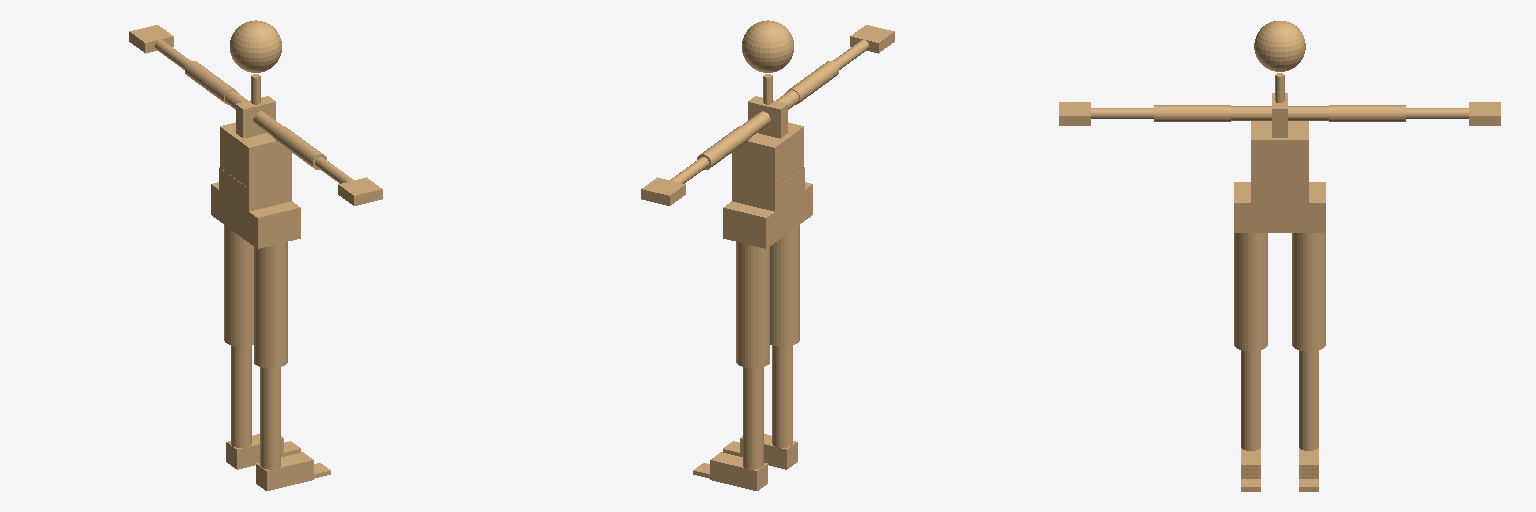
--- What the picture shows (computed from the rendered views, not written in the file) ---
The picture shows the robot from 3 angles, left to right: view 1: azimuth 30°, elevation 25°; view 2: azimuth 150°, elevation 25°; view 3: azimuth 270°, elevation 25°; orthographic projection.
Model XSensStyleModel_template with 49 links and 48 joints (48 revolute), rooted at Pelvis, posed all joints at 0.
Links seen in each view (by area): view 1: RightUpperLeg, LeftUpperLeg, Pelvis, Head, RightLowerLeg, LeftLowerLeg, T12, L5, L3, RightFoot, T8, RightHand (+4 smaller); view 2: LeftUpperLeg, RightUpperLeg, Pelvis, Head, LeftLowerLeg, RightLowerLeg, T12, L5, L3, LeftFoot, T8, LeftHand (+4 smaller); view 3: RightUpperLeg, LeftUpperLeg, Pelvis, Head, T12, RightLowerLeg, LeftLowerLeg, RightUpperArm, LeftUpperArm, L5, L3, RightHand (+8 smaller).
Link boxes in pixels (box(x1,y1,x2,y2)): RightUpperLeg: box(254, 242, 287, 367); LeftUpperLeg: box(224, 225, 253, 346); Pelvis: box(211, 182, 300, 248); Head: box(230, 20, 281, 72); RightLowerLeg: box(260, 367, 280, 469); LeftLowerLeg: box(231, 345, 251, 447); T12: box(220, 122, 291, 167); L5: box(219, 167, 291, 211); L3: box(220, 148, 291, 188); RightFoot: box(256, 452, 313, 490); T8: box(236, 96, 275, 138); RightHand: box(338, 177, 382, 205); LeftUpperLeg: box(736, 242, 769, 367); RightUpperLeg: box(770, 225, 799, 346); Pelvis: box(723, 182, 812, 248); Head: box(742, 20, 793, 72); LeftLowerLeg: box(743, 367, 763, 469); RightLowerLeg: box(772, 345, 792, 447); T12: box(732, 122, 803, 167); L5: box(732, 167, 804, 211); L3: box(732, 148, 803, 188); LeftFoot: box(710, 452, 767, 490); T8: box(748, 96, 787, 138); LeftHand: box(641, 177, 685, 205); RightUpperLeg: box(1234, 233, 1267, 351); LeftUpperLeg: box(1292, 233, 1325, 351); Pelvis: box(1234, 182, 1325, 232); Head: box(1254, 21, 1305, 71); T12: box(1251, 121, 1308, 159); RightLowerLeg: box(1241, 350, 1260, 450); LeftLowerLeg: box(1299, 350, 1318, 450); RightUpperArm: box(1154, 105, 1230, 121); LeftUpperArm: box(1329, 105, 1405, 121); L5: box(1251, 181, 1308, 202); L3: box(1251, 160, 1308, 180); RightHand: box(1059, 102, 1090, 125).
Size in the robot's own frame: 0.3144 by 1.57 by 1.75 metres.
Geometry: primitives only (box / cylinder / sphere), no mesh files.

robot.urdf — XSensStyleModel_template:
<?xml version="1.0" encoding="utf-8"?>

<!--
  Model modified based on: https://github.com/robotology/human-gazebo
  See licence at doc/thirdparty_human_urdf_LICENSE
-->


<!--URDF MODEL 48 DoFs-->

<robot name="XSensStyleModel_template">

<material name="color">
    <color rgba="0.87 0.72 0.53 1"/>
</material>

<!--To open this model with Gazebo replace the null masses, inertias and dimensions of the 'fake links f1 and f2'-->
    <!--LINKS-->
	<!--Link base (1)-->
	<link name="Pelvis">
        <inertial>
            <mass value="6.352"/>
			<!--COM origin wrt pHipOrigin-->
            <origin xyz="0           0    0.062435" rpy="0 0 0" />
            <inertia ixx="0.064101" iyy="0.023834" izz="0.07276" ixy="0" ixz="0" iyz="0"/>
        </inertial>

        <visual>
			<!--box origin wrt pHipOrigin-->
            <origin xyz="0           0    0.062435" rpy="0 0 0" />
            <geometry>
                <box size="0.17519     0.32675     0.11973"/>
            </geometry>
            <material name="color"/>
        </visual>

        <collision>
			<!--box origin wrt pHipOrigin-->
            <origin xyz="0           0    0.062435" rpy="0 0 0" />
            <geometry>
                <box size="0.17519     0.32675     0.11973"/>
            </geometry>
        </collision>

    </link>
    <!--Chain from (2) to (7)-->
	<link name="L5_f1">
        <inertial>
            <mass value="0"/>
            <origin xyz="0 0 0" rpy="0 0 0" />
            <inertia ixx="0" iyy="0" izz="0" ixy="0" ixz="0" iyz="0"/>
        </inertial>
    </link>
	<link name="L5">
        <inertial>
            <mass value="8.0988"/>
			<!--COM origin wrt jL5S1-->
            <origin xyz="0           0    0.043965" rpy="0 0 0" />
            <inertia ixx="0.034135" iyy="0.025932" izz="0.049631" ixy="0" ixz="0" iyz="0"/>
        </inertial>

        <visual>
			<!--box origin origin wrt jL5S1-->
            <origin xyz="0           0    0.043965" rpy="0 0 0" />
            <geometry>
                <box size="0.17519     0.20699     0.08793"/>
            </geometry>
            <material name="color"/>
        </visual>

        <collision>
			<!--box origin origin wrt jL5S1-->
            <origin xyz="0           0    0.043965" rpy="0 0 0" />
            <geometry>
                <box size="0.17519     0.20699     0.08793"/>
            </geometry>
        </collision>
    </link>
	<link name="L3_f1">
        <inertial>
            <mass value="0"/>
            <origin xyz="0 0 0" rpy="0 0 0" />
            <inertia ixx="0" iyy="0" izz="0" ixy="0" ixz="0" iyz="0"/>
        </inertial>
    </link>
	<link name="L3">
        <inertial>
            <mass value="8.0988"/>
			<!--COM origin wrt jL4L3-->
            <origin xyz="0           0    0.039709" rpy="0 0 0" />
            <inertia ixx="0.033174" iyy="0.024971" izz="0.049631" ixy="0" ixz="0" iyz="0"/>
        </inertial>

        <visual>
			<!--box origin origin wrt jL4L3-->
            <origin xyz="0           0    0.039709" rpy="0 0 0" />
            <geometry>
                <box size="0.17519     0.20699    0.079417"/>
            </geometry>
            <material name="color"/>
        </visual>

        <collision>
			<!--box origin origin wrt jL4L3-->
            <origin xyz="0           0    0.039709" rpy="0 0 0" />
            <geometry>
                <box size="0.17519     0.20699    0.079417"/>
            </geometry>
        </collision>
    </link>
	<link name="T12_f1">
        <inertial>
            <mass value="0"/>
            <origin xyz="0 0 0" rpy="0 0 0" />
            <inertia ixx="0" iyy="0" izz="0" ixy="0" ixz="0" iyz="0"/>
        </inertial>
    </link>
	<link name="T12">
        <inertial>
            <mass value="8.0988"/>
			<!--COM origin wrt jL1T12-->
            <origin xyz="0           0    0.039709" rpy="0 0 0" />
            <inertia ixx="0.033174" iyy="0.024971" izz="0.049631" ixy="0" ixz="0" iyz="0"/>
        </inertial>

        <visual>
			<!--box origin origin wrt jL1T12-->
            <origin xyz="0           0    0.039709" rpy="0 0 0" />
            <geometry>
                <box size="0.17519     0.20699    0.079417"/>
            </geometry>
            <material name="color"/>
        </visual>

        <collision>
			<!--box origin origin wrt jL1T12-->
            <origin xyz="0           0    0.039709" rpy="0 0 0" />
            <geometry>
                <box size="0.17519     0.20699    0.079417"/>
            </geometry>
        </collision>
    </link>
	<link name="T8_f1">
        <inertial>
            <mass value="0"/>
            <origin xyz="0 0 0" rpy="0 0 0" />
            <inertia ixx="0" iyy="0" izz="0" ixy="0" ixz="0" iyz="0"/>
        </inertial>
    </link>
	<link name="T8_f2">
        <inertial>
            <mass value="0"/>
            <origin xyz="0 0 0" rpy="0 0 0" />
            <inertia ixx="0" iyy="0" izz="0" ixy="0" ixz="0" iyz="0"/>
        </inertial>
    </link>
	<link name="T8">
        <inertial>
            <mass value="3.176"/>
			<!--COM origin wrt jT9T8-->
            <origin xyz="0           0    0.056134" rpy="0 0 0" />
            <inertia ixx="0.0041415" iyy="0.0080363" izz="0.0055061" ixy="0" ixz="0" iyz="0"/>
        </inertial>

        <visual>
			<!--box origin wrt jT9T8-->
            <origin xyz="0           0    0.056134" rpy="0 0 0" />
            <geometry>
                <box size="0.13327    0.055172     0.11227"/>
            </geometry>
            <material name="color"/>
        </visual>

        <collision>
			<!--box origin wrt jT9T8-->
            <origin xyz="0           0    0.056134" rpy="0 0 0" />
            <geometry>
                <box size="0.13327    0.055172     0.11227"/>
            </geometry>
        </collision>

    </link>
	<link name="Neck_f1">
        <inertial>
            <mass value="0"/>
            <origin xyz="0 0 0" rpy="0 0 0" />
            <inertia ixx="0" iyy="0" izz="0" ixy="0" ixz="0" iyz="0"/>
        </inertial>
    </link>
	<link name="Neck_f2">
        <inertial>
            <mass value="0"/>
            <origin xyz="0 0 0" rpy="0 0 0" />
            <inertia ixx="0" iyy="0" izz="0" ixy="0" ixz="0" iyz="0"/>
        </inertial>
    </link>
	<link name="Neck">
        <inertial>
            <mass value="0.9528"/>
			<!--COM origin wrt jT1C7-->
            <origin xyz="0           0    0.052133" rpy="0 0 0" />
            <inertia ixx="0.0011087" iyy="0.0011087" izz="0.00049098" ixy="0" ixz="0" iyz="0"/>
        </inertial>

        <visual>
			<!--box origin wrt jT1C7-->
            <origin xyz="0           0    0.052133" rpy="0 0 0" />
            <geometry>
		<cylinder length="0.10427" radius="0.016051"/>
            </geometry>
            <material name="color"/>
        </visual>

        <collision>
			<!--box origin wrt jT1C7-->
            <origin xyz="0           0    0.052133" rpy="0 0 0" />
            <geometry>
                <cylinder length="0.10427" radius="0.016051"/>
            </geometry>
        </collision>
    </link>
	<link name="Head_f1">
        <inertial>
            <mass value="0"/>
            <origin xyz="0 0 0" rpy="0 0 0" />
            <inertia ixx="0" iyy="0" izz="0" ixy="0" ixz="0" iyz="0"/>
        </inertial>
    </link>
	<link name="Head">
        <inertial>
            <mass value="0.8584"/>
			<!--COM origin wrt jC1Head-->
            <origin xyz="0           0     0.11223" rpy="0 0 0" />
            <inertia ixx="0.0144" iyy="0.0144" izz="0.0144" ixy="0" ixz="0" iyz="0"/>
        </inertial>

        <visual>
			<!--boc origin wrt jC1Head-->
            <origin xyz="0           0     0.11223" rpy="0 0 0" />
            <geometry>
                <sphere radius="0.09223"/>
            </geometry>
            <material name="color"/>
        </visual>

        <collision>
			<!--box origin wrt jC1Head-->
            <origin xyz="0           0     0.11223" rpy="0 0 0" />
            <geometry>
                <sphere radius="0.09223"/>
            </geometry>
        </collision>

    </link>
	<!--Chain from (8) to (11)-->
	<link name="RightShoulder">
        <inertial>
            <mass value="2.4614"/>
			<!--COM origin wrt jRightC7Shoulder-->
            <origin xyz="0   -0.073328           0" rpy="0 0 0" />
            <inertia ixx="0.0048377" iyy="0.0008521" izz="0.0048377" ixy="0" ixz="0" iyz="0"/>
        </inertial>

        <visual>
			<!--box origin wrt jRightC7Shoulder. RPY rotated of pi/2.-->
            <origin xyz="0   -0.073328           0" rpy="1.5708 0 0" />
            <geometry>
                <cylinder length="0.14666" radius="0.026313"/>
            </geometry>
            <material name="color"/>
        </visual>

        <collision>
			<!--box origin wrt jRightC7Shoulder. RPY rotated of pi/2.-->
            <origin xyz="0   -0.073328           0" rpy="1.5708 0 0" />
            <geometry>
                <cylinder length="0.14666" radius="0.026313"/>
            </geometry>
        </collision>

    </link>
	<link name="RightUpperArm_f1">
        <inertial>
            <mass value="0"/>
            <origin xyz="0 0 0" rpy="0 0 0" />
            <inertia ixx="0" iyy="0" izz="0" ixy="0" ixz="0" iyz="0"/>
        </inertial>
    </link>
	<link name="RightUpperArm_f2">
        <inertial>
            <mass value="0"/>
            <origin xyz="0 0 0" rpy="0 0 0" />
            <inertia ixx="0" iyy="0" izz="0" ixy="0" ixz="0" iyz="0"/>
        </inertial>
    </link>
    <link name="RightUpperArm">
        <inertial>
            <mass value="2.382"/>
			<!--COM origin wrt jRightShoulder-->
            <origin xyz="0     -0.1369           0" rpy="0 0 0" />
            <inertia ixx="0.015417" iyy="0.0010729" izz="0.015417" ixy="0" ixz="0" iyz="0"/>
        </inertial>

        <visual>
			<!--box origin wrt jRightShoulder. RPY rotated of pi/2.-->
            <origin xyz="0     -0.1369           0" rpy="1.5708 0 0" />
            <geometry>
                <cylinder length="0.27379" radius="0.0300014"/>
            </geometry>
            <material name="color"/>
        </visual>

        <collision>
			<!--box origin wrt jRightShoulder. RPY rotated of pi/2.-->
            <origin xyz="0     -0.1369           0" rpy="1.5708 0 0" />
            <geometry>
                <cylinder length="0.27379" radius="0.02014"/>
            </geometry>
        </collision>

    </link>
	<link name="RightForeArm_f1">
    <contact>
      <lateral_friction value="0.0"/>
      <rolling_friction value="0.0"/>
   </contact>

        <inertial>
            <mass value="0"/>
            <origin xyz="0 0 0" rpy="0 0 0" />
            <inertia ixx="0" iyy="0" izz="0" ixy="0" ixz="0" iyz="0"/>
        </inertial>
        <collision>
      <!--box origin wrt jRightElbow. RPY rotated of pi/2.-->
            <geometry>
                <sphere radius="0.023"/>
            </geometry>
        </collision>
    </link>
	<link name="RightForeArm">
        <inertial>
            <mass value="1.588"/>
			<!--COM origin wrt jRightElbow-->
            <origin xyz="0    -0.11359           0" rpy="0 0 0" />
            <inertia ixx="0.0069888" iyy="0.0003179" izz="0.0069888" ixy="0" ixz="0" iyz="0"/>
        </inertial>

        <visual>
			<!--box origin wrt jRightElbow. RPY rotated of pi/2.-->
            <origin xyz="0    -0.11359           0" rpy="1.5708 0 0" />
            <geometry>
                <cylinder length="0.22718" radius="0.020009"/>
            </geometry>
            <material name="color"/>
        </visual>

        <collision>
			<!--box origin wrt jRightElbow. RPY rotated of pi/2.-->
            <origin xyz="0    -0.11359           0" rpy="1.5708 0 0" />
            <geometry>
                <cylinder length="0.22718" radius="0.020009"/>
            </geometry>
        </collision>

    </link>
	<link name="RightHand_f1">
        <inertial>
            <mass value="0"/>
            <origin xyz="0 0 0" rpy="0 0 0" />
            <inertia ixx="0" iyy="0" izz="0" ixy="0" ixz="0" iyz="0"/>
        </inertial>
    </link>
	<link name="RightHand">
        <inertial>
            <mass value="0.4764"/>
			<!--COM origin wrt jRightWrist-->
            <origin xyz="0   -0.086009           0" rpy="0 0 0" />
            <inertia ixx="0.0012383" iyy="0.00058568" izz="0.0016968" ixy="0" ixz="0" iyz="0"/>
        </inertial>

        <visual>
			<!--box origin wrt jRightWrist-->
            <origin xyz="0   -0.086009           0" rpy="0 0 0" />
            <geometry>
                <box size="0.11468     0.11202    0.040019"/>
            </geometry>
            <material name="color"/>
        </visual>

        <collision>
			<!--box origin wrt jRightWrist-->
            <origin xyz="0   -0.086009           0" rpy="0 0 0" />
            <geometry>
                <box size="0.11468     0.11202    0.040019"/>
            </geometry>
        </collision>

    </link>

	<!--Chain from (12) to (15)-->
	<link name="LeftShoulder">
        <inertial>
            <mass value="2.4614"/>
			<!--COM origin wrt jLeftC7Shoulder-->
            <origin xyz="0    0.073328           0" rpy="0 0 0" />
            <inertia ixx="0.0048377" iyy="0.0008521" izz="0.0048377" ixy="0" ixz="0" iyz="0"/>
        </inertial>

        <visual>
			<!--box origin wrt jLeftC7Shoulder. RPY rotated of pi/2.-->
            <origin xyz="0    0.073328           0" rpy="1.5708 0 0" />
            <geometry>
                <cylinder length="0.14666" radius="0.026313"/>
            </geometry>
            <material name="color"/>
        </visual>

        <collision>
			<!--box origin wrt jLeftC7Shoulder. RPY rotated of pi/2.-->
            <origin xyz="0    0.073328           0" rpy="1.5708 0 0" />
            <geometry>
                <cylinder length="0.14666" radius="0.026313"/>
            </geometry>
        </collision>

    </link>
	<link name="LeftUpperArm_f1">
        <inertial>
            <mass value="0"/>
            <origin xyz="0 0 0" rpy="0 0 0" />
            <inertia ixx="0" iyy="0" izz="0" ixy="0" ixz="0" iyz="0"/>
        </inertial>
    </link>
	<link name="LeftUpperArm_f2">
        <inertial>
            <mass value="0"/>
            <origin xyz="0 0 0" rpy="0 0 0" />
            <inertia ixx="0" iyy="0" izz="0" ixy="0" ixz="0" iyz="0"/>
        </inertial>
    </link>
	<link name="LeftUpperArm">
        <inertial>
            <mass value="2.382"/>
			<!--COM origin wrt jLeftShoulder-->
            <origin xyz="0      0.1369           0" rpy="0 0 0" />
            <inertia ixx="0.015417" iyy="0.0010729" izz="0.015417" ixy="0" ixz="0" iyz="0"/>
        </inertial>

        <visual>
			<!--box origin wrt jLeftShoulder. RPY rotated of pi/2.-->
            <origin xyz="0      0.1369           0" rpy="1.5708 0 0" />
            <geometry>
                <cylinder length="0.27379" radius="0.030014"/>
            </geometry>
            <material name="color"/>
        </visual>

        <collision>
			<!--box origin wrt jLeftShoulder. RPY rotated of pi/2.-->
            <origin xyz="0      0.1369           0" rpy="1.5708 0 0" />
            <geometry>
                <cylinder length="0.27379" radius="0.030014"/>
            </geometry>
        </collision>

    </link>
	<link name="LeftForeArm_f1">
        <inertial>
            <mass value="0"/>
            <origin xyz="0 0 0" rpy="0 0 0" />
            <inertia ixx="0" iyy="0" izz="0" ixy="0" ixz="0" iyz="0"/>
        </inertial>
    </link>
	<link name="LeftForeArm">
        <inertial>
            <mass value="1.588"/>
			<!--COM origin wrt jLeftElbow-->
            <origin xyz="0     0.11359           0" rpy="0 0 0" />
            <inertia ixx="0.0069888" iyy="0.0003179" izz="0.0069888" ixy="0" ixz="0" iyz="0"/>
        </inertial>

        <visual>
			<!--box origin wrt jLeftElbow. RPY rotated of pi/2.-->
            <origin xyz="0     0.11359           0" rpy="1.5708 0 0" />
            <geometry>
                <cylinder length="0.22718" radius="0.020009"/>
            </geometry>
            <material name="color"/>
        </visual>

        <collision>
			<!--box origin wrt jLeftElbow. RPY rotated of pi/2.-->
            <origin xyz="0     0.11359           0" rpy="1.5708 0 0" />
            <geometry>
                <cylinder length="0.22718" radius="0.020009"/>
            </geometry>
        </collision>

    </link>
	<link name="LeftHand_f1">
        <inertial>
            <mass value="0"/>
            <origin xyz="0 0 0" rpy="0 0 0" />
            <inertia ixx="0" iyy="0" izz="0" ixy="0" ixz="0" iyz="0"/>
        </inertial>
    </link>
	<link name="LeftHand">
        <inertial>
            <mass value="0.4764"/>
			<!--COM origin wrt jLeftWrist-->
            <origin xyz="0    0.086009           0" rpy="0 0 0" />
            <inertia ixx="0.0012383" iyy="0.00058568" izz="0.0016968" ixy="0" ixz="0" iyz="0"/>
        </inertial>

        <visual>
			<!--COM origin wrt jLeftWrist-->
            <origin xyz="0    0.086009           0" rpy="0 0 0" />
            <geometry>
                <box size="0.11468     0.11202    0.040019"/>
            </geometry>
            <material name="color"/>
        </visual>

        <collision>
			<!--COM origin wrt jLeftWrist-->
            <origin xyz="0    0.086009           0" rpy="0 0 0" />
            <geometry>
                <box size="0.11468     0.11202    0.040019"/>
            </geometry>
        </collision>

    </link>
	<!--Chain from (16) to (19)-->
	<link name="RightUpperLeg_f1">
        <inertial>
            <mass value="0"/>
            <origin xyz="0 0 0" rpy="0 0 0" />
            <inertia ixx="0" iyy="0" izz="0" ixy="0" ixz="0" iyz="0"/>
        </inertial>
    </link>
	<link name="RightUpperLeg_f2">
        <inertial>
            <mass value="0"/>
            <origin xyz="0 0 0" rpy="0 0 0" />
            <inertia ixx="0" iyy="0" izz="0" ixy="0" ixz="0" iyz="0"/>
        </inertial>
    </link>
    <link name="RightUpperLeg">
        <inertial>
            <mass value="9.925"/>
			<!--COM origin wrt jRightHip-->
            <origin xyz="0           0    -0.23901" rpy="0 0 0" />
            <inertia ixx="0.19802" iyy="0.19802" izz="0.018047" ixy="0" ixz="0" iyz="0"/>
        </inertial>

        <visual>
			<!--box origin wrt jRightHip-->
            <origin xyz="0           0    -0.23901" rpy="0 0 0" />
            <geometry>
                <cylinder length="0.47802" radius="0.060305"/>
            </geometry>
            <material name="color"/>
        </visual>

        <collision>
			<!--box origin wrt jRightHip-->
            <origin xyz="0           0    -0.23901" rpy="0 0 0" />
            <geometry>
                <cylinder length="0.47802" radius="0.060305"/>
            </geometry>
        </collision>

    </link>
	<link name="RightLowerLeg_f1">
        <inertial>
            <mass value="0"/>
            <origin xyz="0 0 0" rpy="0 0 0" />
            <inertia ixx="0" iyy="0" izz="0" ixy="0" ixz="0" iyz="0"/>
        </inertial>
    </link>
    <link name="RightLowerLeg">
        <inertial>
            <mass value="2.8981"/>
			<!--COM origin wrt jRightKnee-->
            <origin xyz="0           0    -0.20089" rpy="0 0 0" />
            <inertia ixx="0.039987" iyy="0.039987" izz="0.0019991" ixy="0" ixz="0" iyz="0"/>
        </inertial>

        <visual>
			<!--box origin wrt jRightKnee-->
            <origin xyz="0           0    -0.20089" rpy="0 0 0" />
            <geometry>
                <cylinder length="0.40179" radius="0.037143"/>
            </geometry>
            <material name="color"/>
        </visual>

        <collision>
			<!--box origin wrt jRightKnee-->
            <origin xyz="0           0    -0.20089" rpy="0 0 0" />
            <geometry>
                <cylinder length="0.40179" radius="0.037143"/>
            </geometry>
        </collision>

    </link>
	<link name="RightFoot_f1">
        <inertial>
            <mass value="0"/>
            <origin xyz="0 0 0" rpy="0 0 0" />
            <inertia ixx="0" iyy="0" izz="0" ixy="0" ixz="0" iyz="0"/>
        </inertial>
    </link>
	<link name="RightFoot_f2">
        <inertial>
            <mass value="0"/>
            <origin xyz="0 0 0" rpy="0 0 0" />
            <inertia ixx="0" iyy="0" izz="0" ixy="0" ixz="0" iyz="0"/>
        </inertial>
    </link>
    <link name="RightFoot">
        <inertial>
            <mass value="1.0322"/>
			<!--COM origin wrt jRightAnkle-->
            <origin xyz="0.057127           0   -0.039048" rpy="0 0 0" />
            <inertia ixx="0.0009993" iyy="0.0036296" izz="0.0035796" ixy="0" ixz="0" iyz="0"/>
        </inertial>

        <visual>
			<!--box origin wrt jRightAnkle-->
	    	<origin xyz="0.057127           0   -0.039048" rpy="0 0 0" />
            <geometry>
                <box size="0.18999    0.074286    0.078097"/>
            </geometry>
            <material name="color"/>
        </visual>

        <collision>
			<!--box origin wrt jRightAnkle-->
		    <origin xyz="0.057127           0   -0.039048" rpy="0 0 0" />
	            <geometry>
	                <box size="0.18999    0.074286    0.078097"/>
	            </geometry>
        </collision>

    </link>
    <link name="RightToe">
        <inertial>
            <mass value="0.1191"/>
			<!--COM origin wrt jRightBallFoot-->
            <origin xyz="0.035003           0           0" rpy="0 0 0" />
            <inertia ixx="5.7319e-05" iyy="5.119e-05" izz="0.00010341" ixy="0" ixz="0" iyz="0"/>
        </inertial>

        <visual>
			<!--box origin wrt jRightBallFoot-->
            <origin xyz="0.035003           0           0" rpy="0 0 0" />
            <geometry>
                <box size="0.070006    0.074286    0.016026"/>
            </geometry>
            <material name="color"/>
        </visual>

        <collision>
			<!--box origin wrt jRightBallFoot-->
            <origin xyz="0.035003           0           0" rpy="0 0 0" />
            <geometry>
                <box size="0.070006    0.074286    0.016026"/>
            </geometry>
        </collision>
    </link>
	<!--Chain from (20) to (23)-->
	<link name="LeftUpperLeg_f1">
        <inertial>
            <mass value="0"/>
            <origin xyz="0 0 0" rpy="0 0 0" />
            <inertia ixx="0" iyy="0" izz="0" ixy="0" ixz="0" iyz="0"/>
        </inertial>
    </link>
	<link name="LeftUpperLeg_f2">
        <inertial>
            <mass value="0"/>
            <origin xyz="0 0 0" rpy="0 0 0" />
            <inertia ixx="0" iyy="0" izz="0" ixy="0" ixz="0" iyz="0"/>
        </inertial>
    </link>
    <link name="LeftUpperLeg">
        <inertial>
            <mass value="9.925"/>
			<!--COM origin wrt jLeftHip-->
            <origin xyz="0           0    -0.23901" rpy="0 0 0" />
            <inertia ixx="0.19802" iyy="0.19802" izz="0.018047" ixy="0" ixz="0" iyz="0"/>
        </inertial>

        <visual>
			<!--box origin wrt jLeftHip-->
            <origin xyz="0           0    -0.23901" rpy="0 0 0" />
            <geometry>
                <cylinder length="0.47802" radius="0.060305"/>
            </geometry>
            <material name="color"/>
        </visual>

        <collision>
			<!--box origin wrt jLeftHip-->
            <origin xyz="0           0    -0.23901" rpy="0 0 0" />
            <geometry>
                <cylinder length="0.47802" radius="0.060305"/>
            </geometry>
        </collision>

    </link>
	<link name="LeftLowerLeg_f1">
        <inertial>
            <mass value="0"/>
            <origin xyz="0 0 0" rpy="0 0 0" />
            <inertia ixx="0" iyy="0" izz="0" ixy="0" ixz="0" iyz="0"/>
        </inertial>
    </link>
	<link name="LeftLowerLeg">
        <inertial>
            <mass value="2.8981"/>
			<!--COM origin wrt jLeftKnee-->
            <origin xyz="0           0    -0.20089" rpy="0 0 0" />
            <inertia ixx="0.039987" iyy="0.039987" izz="0.0019991" ixy="0" ixz="0" iyz="0"/>
        </inertial>

        <visual>
			<!--box origin wrt jLeftKnee-->
            <origin xyz="0           0    -0.20089" rpy="0 0 0" />
            <geometry>
		<cylinder length="0.40179" radius="0.037143"/>
            </geometry>
            <material name="color"/>
        </visual>

        <collision>
			<!--box origin wrt jLeftKnee-->
            <origin xyz="0           0    -0.20089" rpy="0 0 0" />
            <geometry>
		<cylinder length="0.40179" radius="0.037143"/>
            </geometry>
        </collision>

    </link>
	<link name="LeftFoot_f1">
        <inertial>
            <mass value="0"/>
            <origin xyz="0 0 0" rpy="0 0 0" />
            <inertia ixx="0" iyy="0" izz="0" ixy="0" ixz="0" iyz="0"/>
        </inertial>
    </link>
	<link name="LeftFoot_f2">
        <inertial>
            <mass value="0"/>
            <origin xyz="0 0 0" rpy="0 0 0" />
            <inertia ixx="0" iyy="0" izz="0" ixy="0" ixz="0" iyz="0"/>
        </inertial>
    </link>
    <link name="LeftFoot">
        <inertial>
            <mass value="1.0322"/>
			<!--COM origin wrt jLeftAnkle-->
            <origin xyz="0.057127           0   -0.039048" rpy="0 0 0" />
            <inertia ixx="0.0009993" iyy="0.0036296" izz="0.0035796" ixy="0" ixz="0" iyz="0"/>
        </inertial>

        <visual>
			<!--box origin wrt jLeftAnkle-->
	   	 	<origin xyz="0.057127           0   -0.039048" rpy="0 0 0" />
            <geometry>
                <box size="0.18999    0.074286    0.078097"/>
            </geometry>
            <material name="color"/>
        </visual>

        <collision>
			<!--box origin wrt jLeftAnkle-->
		    <origin xyz="0.057127           0   -0.039048" rpy="0 0 0" />
	            <geometry>
	                <box size="0.18999    0.074286    0.078097"/>
	            </geometry>
        </collision>

    </link>
	<link name="LeftToe">
        <inertial>
            <mass value="0.1191"/>
			<!--COM origin wrt jLeftBallFoot-->
            <origin xyz="0.035003           0           0" rpy="0 0 0" />
            <inertia ixx="5.7319e-05" iyy="5.119e-05" izz="0.00010341" ixy="0" ixz="0" iyz="0"/>
        </inertial>

        <visual>
			<!--box origin wrt jLeftBallFoot-->
            <origin xyz="0.035003           0           0" rpy="0 0 0" />
            <geometry>
                <box size="0.070006    0.074286    0.016026"/>
            </geometry>
            <material name="color"/>
        </visual>

        <collision>
			<!--box origin wrt jLeftBallFoot-->
            <origin xyz="0.035003           0           0" rpy="0 0 0" />
            <geometry>
                <box size="0.070006    0.074286    0.016026"/>
            </geometry>
        </collision>
    </link>


	<!--JOINTS-->
	<!--Chain from (2) to (7)-->
	<joint name="jL5S1_rotx" type="revolute">
        <origin xyz="-0.000525           0      0.1223" rpy="0 0 0"/>
        <parent link="Pelvis"/>
        <child link="L5_f1"/>
        <dynamics damping="0.5" friction="1.0"/>
        <limit effort="500" velocity="1.0" lower="-0.610865" upper="0.610865" />
        <axis xyz="1 0 0" />
    </joint>
	<joint name="jL5S1_roty" type="revolute">
        <origin xyz="0 0 0" rpy="0 0 0"/>
        <parent link="L5_f1"/>
        <child link="L5"/>
        <dynamics damping="0.1" friction="0.0"/>
        <limit effort="500" velocity="1.0" lower="-0.523599" upper="1.309" />
        <axis xyz="0 1 0" />
    </joint>
	<joint name="jL4L3_rotx" type="revolute">
        <origin xyz="0.000953           0     0.08793" rpy="0 0 0"/>
        <parent link="L5"/>
        <child link="L3_f1"/>
        <dynamics damping="0.5" friction="1.0"/>
        <limit effort="500" velocity="1.0" lower="-0.610865" upper="0.610865" />
        <axis xyz="1 0 0" />
    </joint>
	<joint name="jL4L3_roty" type="revolute">
        <origin xyz="0 0 0" rpy="0 0 0"/>
        <parent link="L3_f1"/>
        <child link="L3"/>
        <dynamics damping="0.5" friction="1.0"/>
        <limit effort="500" velocity="1.0" lower="-0.523599" upper="1.309" />
        <axis xyz="0 1 0" />
    </joint>
	<joint name="jL1T12_rotx" type="revolute">
        <origin xyz="0           0    0.079417" rpy="0 0 0"/>
        <parent link="L3"/>
        <child link="T12_f1"/>
        <dynamics damping="0.5" friction="1.0"/>
        <limit effort="500" velocity="1.0" lower="-0.610865" upper="0.610865" />
        <axis xyz="1 0 0" />
    </joint>
	<joint name="jL1T12_roty" type="revolute">
        <origin xyz="0 0 0" rpy="0 0 0"/>
        <parent link="T12_f1"/>
        <child link="T12"/>
        <dynamics damping="0.5" friction="1.0"/>
        <limit effort="500" velocity="1.0" lower="-0.523599" upper="1.309" />
        <axis xyz="0 1 0" />
    </joint>
	<joint name="jT9T8_rotx" type="revolute">
        <origin xyz="0           0    0.079417" rpy="0 0 0"/>
        <parent link="T12"/>
        <child link="T8_f1"/>
        <dynamics damping="0.1" friction="0.0"/>
        <limit effort="500" velocity="1.0" lower="-0.349066" upper="0.349066" />
        <axis xyz="1 0 0" />
    </joint>
	<joint name="jT9T8_roty" type="revolute">
        <origin xyz="0 0 0" rpy="0 0 0"/>
        <parent link="T8_f1"/>
        <child link="T8_f2"/>
        <dynamics damping="0.5" friction="1.0"/>
        <limit effort="500" velocity="1.0" lower="-0.261799" upper="0.698132" />
        <axis xyz="0 1 0" />
    </joint>
    <joint name="jT9T8_rotz" type="revolute">
        <origin xyz="0 0 0" rpy="0 0 0"/>
        <parent link="T8_f2"/>
        <child link="T8"/>
        <dynamics damping="0.1" friction="0.0"/>
        <limit effort="500" velocity="1.0" lower="-0.610865" upper="0.610865" />
        <axis xyz="0 0 1" />
    </joint>
	<joint name="jT1C7_rotx" type="revolute">
        <origin xyz="0           0     0.11227" rpy="0 0 0"/>
        <parent link="T8"/>
        <child link="Neck_f1"/>
        <dynamics damping="0.5" friction="1.0"/>
        <limit effort="30" velocity="1.0" lower="-0.610865" upper="0.610865" />
        <axis xyz="1 0 0" />
    </joint>
	<joint name="jT1C7_roty" type="revolute">
        <origin xyz="0 0 0" rpy="0 0 0"/>
        <parent link="Neck_f1"/>
        <child link="Neck_f2"/>
        <dynamics damping="0.1" friction="0.0"/>
        <limit effort="500" velocity="1.0" lower="-0.959931" upper="1.5708" />
        <axis xyz="0 1 0" />
    </joint>
    <joint name="jT1C7_rotz" type="revolute">
        <origin xyz="0 0 0" rpy="0 0 0"/>
        <parent link="Neck_f2"/>
        <child link="Neck"/>
        <dynamics damping="0.5" friction="1.0"/>
        <limit effort="500" velocity="1.0" lower="-1.22173" upper="1.22173" />
        <axis xyz="0 0 1" />
    </joint>
	<joint name="jC1Head_rotx" type="revolute">
        <origin xyz="-0.000154           0     0.10427" rpy="0 0 0"/>
        <parent link="Neck"/>
        <child link="Head_f1"/>
        <dynamics damping="0.5" friction="1.0"/>
        <limit effort="500" velocity="1.0" lower="-0.610865" upper="0.610865" />
        <axis xyz="1 0 0" />
    </joint>
	<joint name="jC1Head_roty" type="revolute">
        <origin xyz="0 0 0" rpy="0 0 0"/>
        <parent link="Head_f1"/>
        <child link="Head"/>
        <dynamics damping="0.5" friction="1.0"/>
        <limit effort="500" velocity="1.0" lower="-0.436332" upper="0.174533" />
        <axis xyz="0 1 0" />
    </joint>
	<!--Chain from (8) to (11)-->
	<joint name="jRightC7Shoulder_rotx" type="revolute">
        <origin xyz="0   -0.027586    0.063241" rpy="0 0 0"/>
        <parent link="T8"/>
        <child link="RightShoulder"/>
        <dynamics damping="10.1" friction="10.0"/>
        <limit effort="30" velocity="1.0" lower="-0.785398" upper="0.0872665" />
        <axis xyz="1 0 0" />
    </joint>
	<joint name="jRightShoulder_rotx" type="revolute">
        <origin xyz="0    -0.14666           0" rpy="0 0 0"/>
        <parent link="RightShoulder"/>
        <child link="RightUpperArm_f1"/>
        <dynamics damping="10.1" friction="10.0"/>
        <limit effort="30" velocity="0.2" lower="-2.35619" upper="1.5708" />
        <axis xyz="1 0 0" />
    </joint>
	<joint name="jRightShoulder_roty" type="revolute">
        <origin xyz="0 0 0" rpy="0 0 0"/>
        <parent link="RightUpperArm_f1"/>
        <child link="RightUpperArm_f2"/>
        <dynamics damping="10.1" friction="10.0"/>
        <limit effort="30" velocity="0.2" lower="-1.5708" upper="1.5708" />
        <axis xyz="0 1 0" />

        <!-- <limit effort="30" velocity="0.2" lower="-0.785398" upper="3.14159" />
        <axis xyz="0 0 1" /> -->

    </joint>
    <joint name="jRightShoulder_rotz" type="revolute">
        <origin xyz="0 0 0" rpy="0 0 0"/>
        <parent link="RightUpperArm_f2"/>
        <child link="RightUpperArm"/>
        <dynamics damping="10.1" friction="10.0"/>
        <limit effort="30" velocity="1.0" lower="-0.785398" upper="3.14159" />
        <axis xyz="0 0 1" />

        <!-- <limit effort="30" velocity="0.2" lower="-1.5708" upper="1.5708" />
        <axis xyz="0 1 0" /> -->
    </joint>
	<joint name="jRightElbow_roty" type="revolute">
        <origin xyz="0    -0.27379           0" rpy="0 0 0"/>
        <parent link="RightUpperArm"/>
        <child link="RightForeArm_f1"/>
        <dynamics damping="10.1" friction="10.0"/>
        <limit effort="30" velocity="1.0" lower="-1.5708" upper="1.48353" />
        <axis xyz="0 1 0" />
    </joint>
	<joint name="jRightElbow_rotz" type="revolute">
        <origin xyz="0 0 0" rpy="0 0 0"/>
        <parent link="RightForeArm_f1"/>
        <child link="RightForeArm"/>
        <dynamics damping="10.1" friction="10.0"/>
        <limit effort="30" velocity="1.0" lower="0" upper="2.53073" />
        <axis xyz="0 0 1" />
    </joint>
	<joint name="jRightWrist_rotx" type="revolute">
        <origin xyz="0.000133    -0.19718           0" rpy="0 0 0"/>
        <parent link="RightForeArm"/>
        <child link="RightHand_f1"/>
        <dynamics damping="0.1" friction="10.0"/>
        <limit effort="30" velocity="1.0" lower="-0.872665" upper="1.0472" />
        <axis xyz="1 0 0" />
    </joint>
	<joint name="jRightWrist_rotz" type="revolute">
        <origin xyz="0 0 0" rpy="0 0 0"/>
        <parent link="RightHand_f1"/>
        <child link="RightHand"/>
        <dynamics damping="0.1" friction="0.0"/>
        <limit effort="30" velocity="1.0" lower="-0.523599" upper="0.349066" />
        <axis xyz="0 0 1" />
    </joint>
	<!--Chain from (12) to (15)-->
	<joint name="jLeftC7Shoulder_rotx" type="revolute">
        <origin xyz="0    0.027586    0.063241" rpy="0 0 0"/>
        <parent link="T8"/>
        <child link="LeftShoulder"/>
        <dynamics damping="0.1" friction="0.0"/>
        <limit effort="30" velocity="1.0" lower="-0.0872665" upper="0.785398" />
        <axis xyz="1 0 0" />
    </joint>
	<joint name="jLeftShoulder_rotx" type="revolute">
        <origin xyz="0     0.14666           0" rpy="0 0 0"/>
        <parent link="LeftShoulder"/>
        <child link="LeftUpperArm_f1"/>
        <dynamics damping="0.1" friction="0.0"/>
        <limit effort="30" velocity="1.0" lower="-1.5708" upper="2.35619" />
        <axis xyz="1 0 0" />
    </joint>
	<joint name="jLeftShoulder_roty" type="revolute">
        <origin xyz="0 0 0" rpy="0 0 0"/>
        <parent link="LeftUpperArm_f1"/>
        <child link="LeftUpperArm_f2"/>
        <dynamics damping="0.1" friction="0.0"/>
        <limit effort="30" velocity="1.0" lower="-1.5708" upper="1.5708" />
        <axis xyz="0 1 0" />
    </joint>
    <joint name="jLeftShoulder_rotz" type="revolute">
        <origin xyz="0 0 0" rpy="0 0 0"/>
        <parent link="LeftUpperArm_f2"/>
        <child link="LeftUpperArm"/>
        <dynamics damping="0.1" friction="0.0"/>
        <limit effort="30" velocity="1.0" lower="-3.14159" upper="0.785398" />
        <axis xyz="0 0 1" />
    </joint>
    <joint name="jLeftElbow_roty" type="revolute">
        <origin xyz="0     0.27379           0" rpy="0 0 0"/>
        <parent link="LeftUpperArm"/>
        <child link="LeftForeArm_f1"/>
        <dynamics damping="0.1" friction="0.0"/>
        <limit effort="30" velocity="1.0" lower="-1.5708" upper="1.48353" />
        <axis xyz="0 1 0" />
    </joint>
    <joint name="jLeftElbow_rotz" type="revolute">
        <origin xyz="0 0 0" rpy="0 0 0"/>
        <parent link="LeftForeArm_f1"/>
        <child link="LeftForeArm"/>
        <dynamics damping="0.1" friction="0.0"/>
        <limit effort="30" velocity="1.0" lower="-2.53073" upper="0" />
        <axis xyz="0 0 1" />
    </joint>
	<joint name="jLeftWrist_rotx" type="revolute">
        <origin xyz="0.000133     0.19718           0" rpy="0 0 0"/>
        <parent link="LeftForeArm"/>
        <child link="LeftHand_f1"/>
        <dynamics damping="0.1" friction="0.0"/>
        <limit effort="30" velocity="1.0" lower="-1.0472" upper="0.872665" />
        <axis xyz="1 0 0" />
    </joint>
	<joint name="jLeftWrist_rotz" type="revolute">
        <origin xyz="0 0 0" rpy="0 0 0"/>
        <parent link="LeftHand_f1"/>
        <child link="LeftHand"/>
        <dynamics damping="0.1" friction="0.0"/>
        <limit effort="30" velocity="1.0" lower="-0.349066" upper="0.523599" />
        <axis xyz="0 0 1" />
    </joint>
	<!--Chain from (16) to (19)-->
	<joint name="jRightHip_rotx" type="revolute">
        <origin xyz="0.000262     -0.1035    0.002571" rpy="0 0 0"/>
        <parent link="Pelvis"/>
        <child link="RightUpperLeg_f1"/>
        <dynamics damping="0.1" friction="0.0"/>
        <limit effort="30" velocity="1.0" lower="-0.785398" upper="0.523599" />
        <axis xyz="1 0 0" />
    </joint>
	<joint name="jRightHip_roty" type="revolute">
        <origin xyz="0 0 0" rpy="0 0 0"/>
        <parent link="RightUpperLeg_f1"/>
        <child link="RightUpperLeg_f2"/>
        <dynamics damping="0.1" friction="0.0"/>
        <limit effort="30" velocity="1.0" lower="-0.261799" upper="2.0944" />
        <axis xyz="0 1 0" />
    </joint>
    <joint name="jRightHip_rotz" type="revolute">
        <origin xyz="0 0 0" rpy="0 0 0"/>
        <parent link="RightUpperLeg_f2"/>
        <child link="RightUpperLeg"/>
        <dynamics damping="0.1" friction="0.0"/>
        <limit effort="30" velocity="1.0" lower="-0.785398" upper="0.785398" />
        <axis xyz="0 0 1" />
    </joint>
	<joint name="jRightKnee_roty" type="revolute">
        <origin xyz="-1.8e-05           0    -0.47802" rpy="0 0 0"/>
        <parent link="RightUpperLeg"/>
        <child link="RightLowerLeg_f1"/>
        <dynamics damping="0.1" friction="0.0"/>
        <limit effort="30" velocity="1.0" lower="0" upper="2.35619" />
        <axis xyz="0 1 0" />
    </joint>
	<joint name="jRightKnee_rotz" type="revolute">
        <origin xyz="0 0 0" rpy="0 0 0"/>
        <parent link="RightLowerLeg_f1"/>
        <child link="RightLowerLeg"/>
        <dynamics damping="0.1" friction="0.0"/>
        <limit effort="30" velocity="1.0" lower="-0.698132" upper="0.523599" />
        <axis xyz="0 0 1" />
    </joint>
	<joint name="jRightAnkle_rotx" type="revolute">
        <origin xyz="4.5e-05           0    -0.40179" rpy="0 0 0"/>
        <parent link="RightLowerLeg"/>
        <child link="RightFoot_f1"/>
        <dynamics damping="0.1" friction="0.0"/>
        <limit effort="30" velocity="1.0" lower="-0.610865" upper="0.785398" />
        <axis xyz="1 0 0" />
    </joint>
	<joint name="jRightAnkle_roty" type="revolute">
        <origin xyz="0 0 0" rpy="0 0 0"/>
        <parent link="RightFoot_f1"/>
        <child link="RightFoot_f2"/>
        <dynamics damping="0.1" friction="0.0"/>
        <limit effort="30" velocity="1.0" lower="-0.523599" upper="0.872665" />
        <axis xyz="0 1 0" />
    </joint>
    <joint name="jRightAnkle_rotz" type="revolute">
        <origin xyz="0 0 0" rpy="0 0 0"/>
        <parent link="RightFoot_f2"/>
        <child link="RightFoot"/>
        <dynamics damping="0.1" friction="0.0"/>
        <limit effort="30" velocity="1.0" lower="-0.436332" upper="0.872665" />
        <axis xyz="0 0 1" />
    </joint>
	<joint name="jRightBallFoot_roty" type="revolute">
        <origin xyz="0.15212           0   -0.065242" rpy="0 0 0"/>
        <parent link="RightFoot"/>
        <child link="RightToe"/>
        <dynamics damping="0.1" friction="0.0"/>
        <limit effort="30" velocity="1.0" lower="-0.174533" upper="1.5708" />
        <axis xyz="0 1 0" />
    </joint>
	<!--Chain from (20) to (23)-->
	<joint name="jLeftHip_rotx" type="revolute">
        <origin xyz="0.000262      0.1035    0.002571" rpy="0 0 0"/>
        <parent link="Pelvis"/>
        <child link="LeftUpperLeg_f1"/>
        <dynamics damping="0.1" friction="0.0"/>
        <limit effort="30" velocity="1.0" lower="-0.523599" upper="0.785398" />
        <axis xyz="1 0 0" />
    </joint>
	<joint name="jLeftHip_roty" type="revolute">
        <origin xyz="0 0 0" rpy="0 0 0"/>
        <parent link="LeftUpperLeg_f1"/>
        <child link="LeftUpperLeg_f2"/>
        <dynamics damping="0.1" friction="0.0"/>
        <limit effort="30" velocity="1.0" lower="-0.261799" upper="2.0944" />
        <axis xyz="0 1 0" />
    </joint>
    <joint name="jLeftHip_rotz" type="revolute">
        <origin xyz="0 0 0" rpy="0 0 0"/>
        <parent link="LeftUpperLeg_f2"/>
        <child link="LeftUpperLeg"/>
        <dynamics damping="0.1" friction="0.0"/>
        <limit effort="30" velocity="1.0" lower="-0.785398" upper="0.785398" />
        <axis xyz="0 0 1" />
    </joint>
	<joint name="jLeftKnee_roty" type="revolute">
        <origin xyz="-1.8e-05           0    -0.47802" rpy="0 0 0"/>
        <parent link="LeftUpperLeg"/>
        <child link="LeftLowerLeg_f1"/>
        <dynamics damping="0.1" friction="0.0"/>
        <limit effort="30" velocity="1.0" lower="0" upper="2.35619" />
        <axis xyz="0 1 0" />
    </joint>
    <joint name="jLeftKnee_rotz" type="revolute">
        <origin xyz="0 0 0" rpy="0 0 0"/>
        <parent link="LeftLowerLeg_f1"/>
        <child link="LeftLowerLeg"/>
        <dynamics damping="0.1" friction="0.0"/>
        <limit effort="30" velocity="1.0" lower="-0.523599" upper="0.698132" />
        <axis xyz="0 0 1" />
    </joint>
	<joint name="jLeftAnkle_rotx" type="revolute">
        <origin xyz="4.5e-05           0    -0.40179" rpy="0 0 0"/>
        <parent link="LeftLowerLeg"/>
        <child link="LeftFoot_f1"/>
        <dynamics damping="0.1" friction="0.0"/>
        <limit effort="30" velocity="1.0" lower="-0.785398" upper="0.610865" />
        <axis xyz="1 0 0" />
    </joint>
	<joint name="jLeftAnkle_roty" type="revolute">
        <origin xyz="0 0 0" rpy="0 0 0"/>
        <parent link="LeftFoot_f1"/>
        <child link="LeftFoot_f2"/>
        <dynamics damping="0.1" friction="0.0"/>
        <limit effort="30" velocity="1.0" lower="-0.523599" upper="0.872665" />
        <axis xyz="0 1 0" />
    </joint>
    <joint name="jLeftAnkle_rotz" type="revolute">
        <origin xyz="0 0 0" rpy="0 0 0"/>
        <parent link="LeftFoot_f2"/>
        <child link="LeftFoot"/>
        <dynamics damping="0.1" friction="0.0"/>
        <limit effort="30" velocity="1.0" lower="-0.872665" upper="0.436332" />
        <axis xyz="0 0 1" />
    </joint>
	<joint name="jLeftBallFoot_roty" type="revolute">
        <origin xyz="0.15212           0   -0.065242" rpy="0 0 0"/>
        <parent link="LeftFoot"/>
        <child link="LeftToe"/>
        <dynamics damping="0.1" friction="0.0"/>
        <limit effort="30" velocity="1.0" lower="-0.174533" upper="1.5708" />
        <axis xyz="0 1 0" />
    </joint>

	<!-- Sensor  1-->
<sensor name="Pelvis_gyro" type="gyroscope">
<parent link="Pelvis"/>
<origin xyz="-0.071987 -6.0202e-07     0.12307" rpy="-0.021728      1.1284     -3.1314"/>
</sensor>
<sensor name="Pelvis_accelerometer" type="accelerometer">
<parent link="Pelvis"/>
<origin xyz="-0.071987 -6.0202e-07     0.12307" rpy="-0.021728      1.1284     -3.1314"/>
</sensor>
<!-- Sensor  2-->
<sensor name="T8_gyro" type="gyroscope">
<parent link="T8"/>
<origin xyz="0.12438  4.9598e-07    0.068411" rpy="-0.098341      1.1275    -0.18079"/>
</sensor>
<sensor name="T8_accelerometer" type="accelerometer">
<parent link="T8"/>
<origin xyz="0.12438  4.9598e-07    0.068411" rpy="-0.098341      1.1275    -0.18079"/>
</sensor>
<!-- Sensor  3-->
<sensor name="Head_gyro" type="gyroscope">
<parent link="Head"/>
<origin xyz="-0.084448  2.2949e-06    0.092822" rpy="2.1005    -0.13417     -1.4634"/>
</sensor>
<sensor name="Head_accelerometer" type="accelerometer">
<parent link="Head"/>
<origin xyz="-0.084448  2.2949e-06    0.092822" rpy="2.1005    -0.13417     -1.4634"/>
</sensor>
<!-- Sensor  4-->
<sensor name="RightShoulder_gyro" type="gyroscope">
<parent link="RightShoulder"/>
<origin xyz="-0.02105   -0.052626   -0.063152" rpy="1.1394    -0.27235     -1.4218"/>
</sensor>
<sensor name="RightShoulder_accelerometer" type="accelerometer">
<parent link="RightShoulder"/>
<origin xyz="-0.02105   -0.052626   -0.063152" rpy="1.1394    -0.27235     -1.4218"/>
</sensor>
<!-- Sensor  5-->
<sensor name="RightUpperArm_gyro" type="gyroscope">
<parent link="RightUpperArm"/>
<origin xyz="-0.01847   -0.092351     0.01847" rpy="-0.055952    -0.10816     -1.5715"/>
</sensor>
<sensor name="RightUpperArm_accelerometer" type="accelerometer">
<parent link="RightUpperArm"/>
<origin xyz="-0.01847   -0.092351     0.01847" rpy="-0.055952    -0.10816     -1.5715"/>
</sensor>
<!-- Sensor  6-->
<sensor name="RightForeArm_gyro" type="gyroscope">
<parent link="RightForeArm"/>
<origin xyz="0.001726    -0.18818    0.018794" rpy="-0.60149    0.046129     -1.3658"/>
</sensor>
<sensor name="RightForeArm_accelerometer" type="accelerometer">
<parent link="RightForeArm"/>
<origin xyz="0.001726    -0.18818    0.018794" rpy="-0.60149    0.046129     -1.3658"/>
</sensor>
<!-- Sensor  7-->
<sensor name="RightHand_gyro" type="gyroscope">
<parent link="RightHand"/>
<origin xyz="1.3323e-08    -0.05268    0.019156" rpy="-0.44839    -0.14972     -1.4386"/>
</sensor>
<sensor name="RightHand_accelerometer" type="accelerometer">
<parent link="RightHand"/>
<origin xyz="1.3323e-08    -0.05268    0.019156" rpy="-0.44839    -0.14972     -1.4386"/>
</sensor>
<!-- Sensor  8-->
<sensor name="LeftShoulder_gyro" type="gyroscope">
<parent link="LeftShoulder"/>
<origin xyz="-0.02105    0.052626   -0.063152" rpy="-1.0415    -0.28459      1.3133"/>
</sensor>
<sensor name="LeftShoulder_accelerometer" type="accelerometer">
<parent link="LeftShoulder"/>
<origin xyz="-0.02105    0.052626   -0.063152" rpy="-1.0415    -0.28459      1.3133"/>
</sensor>
<!-- Sensor  9-->
<sensor name="LeftUpperArm_gyro" type="gyroscope">
<parent link="LeftUpperArm"/>
<origin xyz="-0.01847    0.092351     0.01847" rpy="-0.1577   -0.030387        1.62"/>
</sensor>
<sensor name="LeftUpperArm_accelerometer" type="accelerometer">
<parent link="LeftUpperArm"/>
<origin xyz="-0.01847    0.092351     0.01847" rpy="-0.1577   -0.030387        1.62"/>
</sensor>
<!-- Sensor  10-->
<sensor name="LeftForeArm_gyro" type="gyroscope">
<parent link="LeftForeArm"/>
<origin xyz="0.0017291     0.18818    0.018794" rpy="0.2455     0.07995      1.3985"/>
</sensor>
<sensor name="LeftForeArm_accelerometer" type="accelerometer">
<parent link="LeftForeArm"/>
<origin xyz="0.0017291     0.18818    0.018794" rpy="0.2455     0.07995      1.3985"/>
</sensor>
<!-- Sensor  11-->
<sensor name="LeftHand_gyro" type="gyroscope">
<parent link="LeftHand"/>
<origin xyz="3.0003e-07     0.05268    0.019156" rpy="0.49289   -0.074408      1.5697"/>
</sensor>
<sensor name="LeftHand_accelerometer" type="accelerometer">
<parent link="LeftHand"/>
<origin xyz="3.0003e-07     0.05268    0.019156" rpy="0.49289   -0.074408      1.5697"/>
</sensor>
<!-- Sensor  12-->
<sensor name="RightUpperLeg_gyro" type="gyroscope">
<parent link="RightUpperLeg"/>
<origin xyz="0.013845   -0.048743    -0.28798" rpy="-2.9811      1.4724      1.5206"/>
</sensor>
<sensor name="RightUpperLeg_accelerometer" type="accelerometer">
<parent link="RightUpperLeg"/>
<origin xyz="0.013845   -0.048743    -0.28798" rpy="-2.9811      1.4724      1.5206"/>
</sensor>
<!-- Sensor  13-->
<sensor name="RightLowerLeg_gyro" type="gyroscope">
<parent link="RightLowerLeg"/>
<origin xyz="0.030603   0.0070053    -0.13166" rpy="-2.8522      1.3804     -2.4268"/>
</sensor>
<sensor name="RightLowerLeg_accelerometer" type="accelerometer">
<parent link="RightLowerLeg"/>
<origin xyz="0.030603   0.0070053    -0.13166" rpy="-2.8522      1.3804     -2.4268"/>
</sensor>
<!-- Sensor  14-->
<sensor name="RightFoot_gyro" type="gyroscope">
<parent link="RightFoot"/>
<origin xyz="0.087491    0.001456   -0.012352" rpy="0.16226     0.29269    -0.49561"/>
</sensor>
<sensor name="RightFoot_accelerometer" type="accelerometer">
<parent link="RightFoot"/>
<origin xyz="0.087491    0.001456   -0.012352" rpy="0.16226     0.29269    -0.49561"/>
</sensor>
<!-- Sensor  15-->
<sensor name="LeftUpperLeg_gyro" type="gyroscope">
<parent link="LeftUpperLeg"/>
<origin xyz="0.013845    0.048745    -0.28798" rpy="2.7257      1.4229      -2.191"/>
</sensor>
<sensor name="LeftUpperLeg_accelerometer" type="accelerometer">
<parent link="LeftUpperLeg"/>
<origin xyz="0.013845    0.048745    -0.28798" rpy="2.7257      1.4229      -2.191"/>
</sensor>
<!-- Sensor  16-->
<sensor name="LeftLowerLeg_gyro" type="gyroscope">
<parent link="LeftLowerLeg"/>
<origin xyz="0.030604  -0.0070048    -0.13166" rpy="2.9693      1.4312      2.4317"/>
</sensor>
<sensor name="LeftLowerLeg_accelerometer" type="accelerometer">
<parent link="LeftLowerLeg"/>
<origin xyz="0.030604  -0.0070048    -0.13166" rpy="2.9693      1.4312      2.4317"/>
</sensor>
<!-- Sensor  17-->
<sensor name="LeftFoot_gyro" type="gyroscope">
<parent link="LeftFoot"/>
<origin xyz="0.087491   -0.001456   -0.012352" rpy="-0.12974     0.35273     0.38485"/>
</sensor>
<sensor name="LeftFoot_accelerometer" type="accelerometer">
<parent link="LeftFoot"/>
<origin xyz="0.087491   -0.001456   -0.012352" rpy="-0.12974     0.35273     0.38485"/>
</sensor>


</robot>
